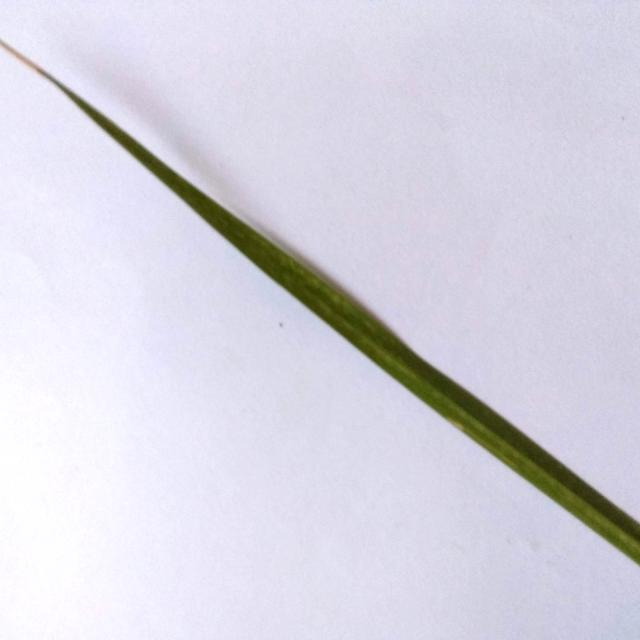Rice_Healthy: (2, 41, 640, 564)
